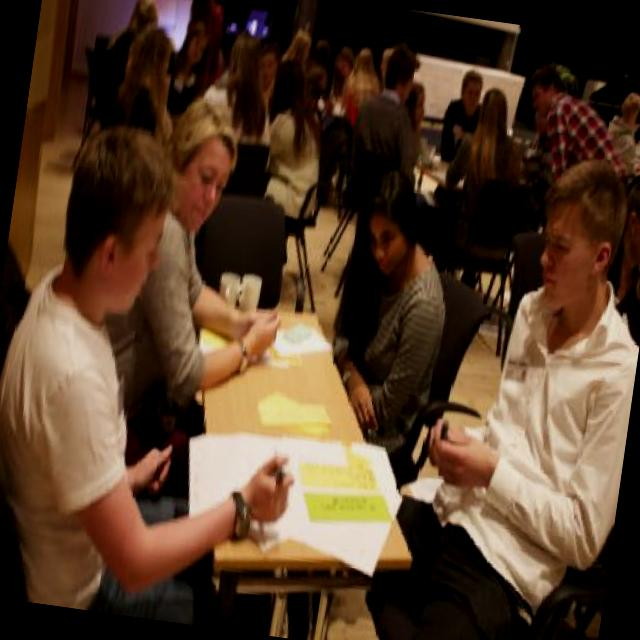Person: (0, 104, 343, 635), (353, 128, 640, 640), (63, 0, 449, 287), (85, 72, 323, 510), (310, 148, 473, 466), (513, 57, 640, 196), (600, 86, 640, 175)
